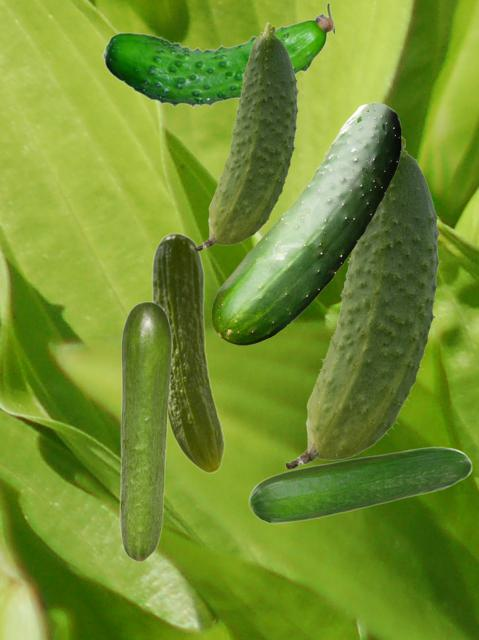cucumber: (285, 134, 440, 468), (211, 102, 400, 344), (101, 2, 333, 107), (194, 22, 298, 250), (151, 232, 224, 473), (248, 446, 471, 523), (119, 301, 171, 561)
